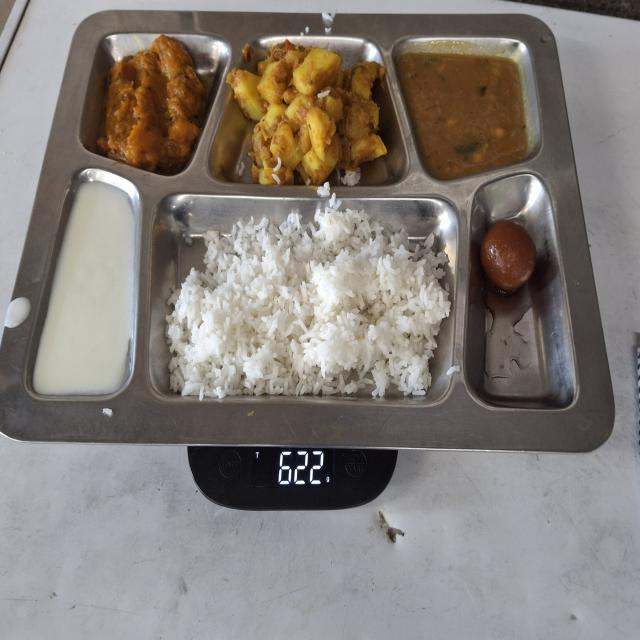Aloo Sabji: (229, 32, 389, 189)
Curd: (28, 180, 137, 396)
Dal: (396, 47, 537, 176)
Gulab Jamun: (478, 205, 540, 353)
Pumpkin Sabji: (102, 29, 204, 175)
White Rice: (163, 198, 448, 399)
